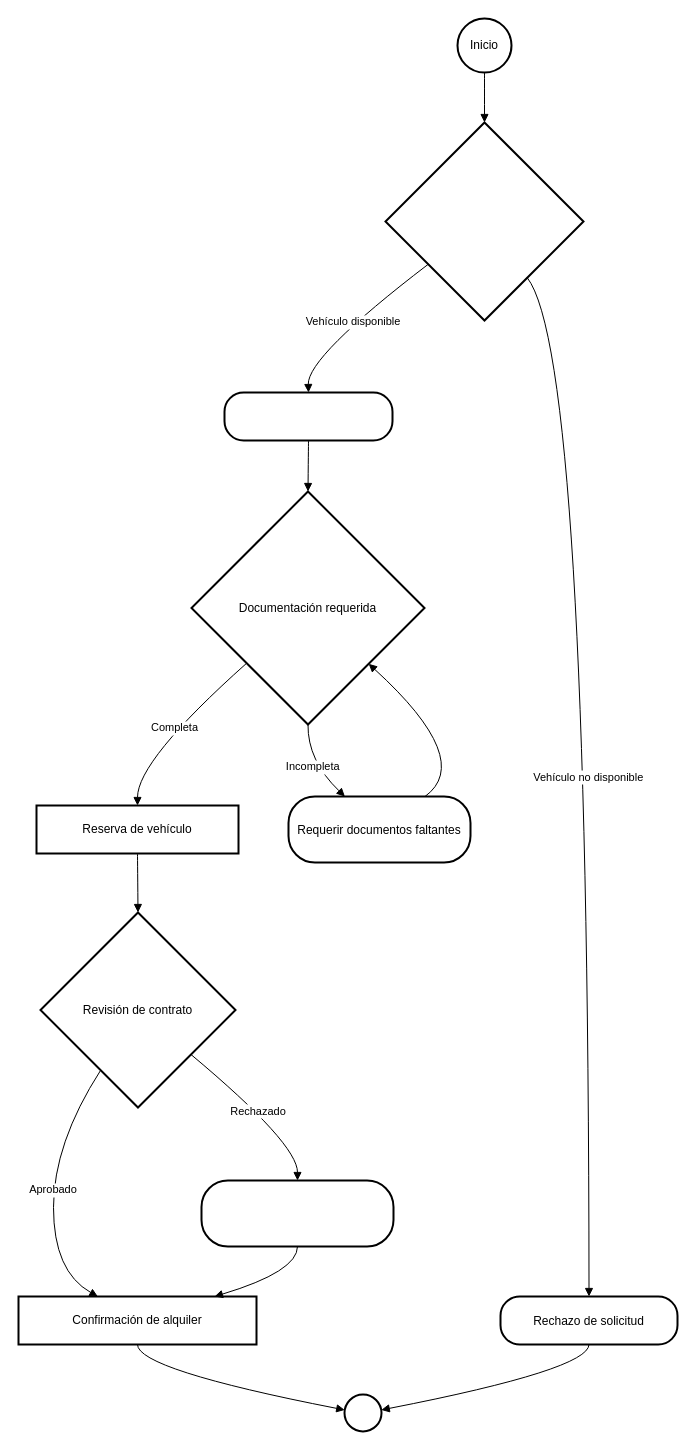
The diagram is 695 pixels wide and 1449 high, and some of its shapes have lost their labels. Here are the shapes that lost their labels. From the top down, the centre of each, then its label:
(484,221): Solicitud de vehículo
(308,416): Gestión de alquiler
(297,1213): Revisión de términos y condiciones
(362,1412): Fin
